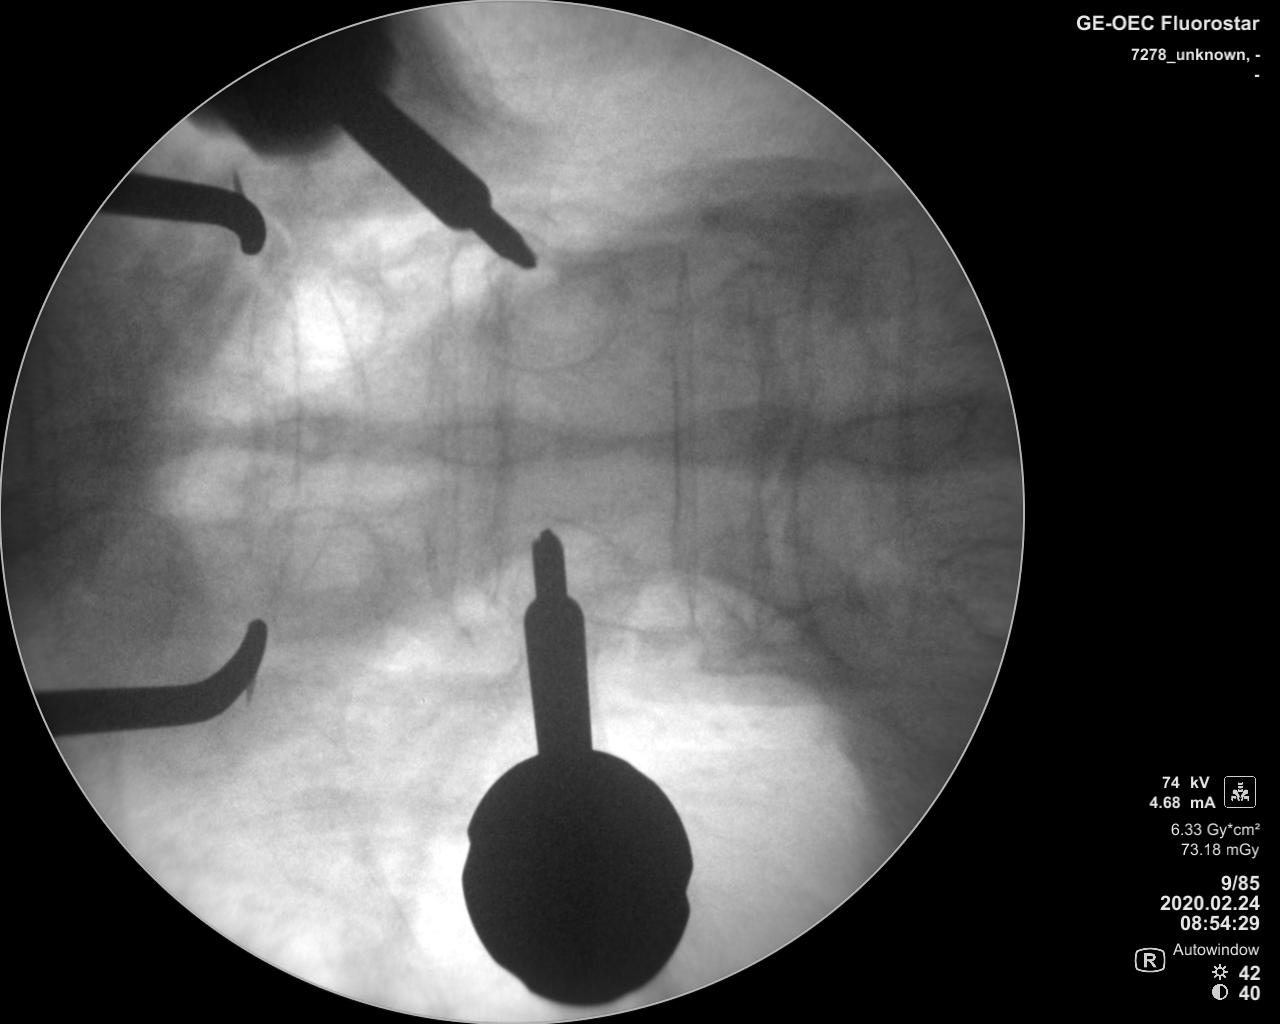eyes: (467, 256, 636, 365), (263, 507, 389, 629), (255, 266, 391, 370)
line: (256, 266, 378, 615), (658, 251, 713, 646), (424, 261, 467, 633), (478, 258, 514, 625)
nose: (624, 393, 800, 478), (818, 392, 978, 480), (217, 398, 365, 466), (410, 411, 569, 470)
